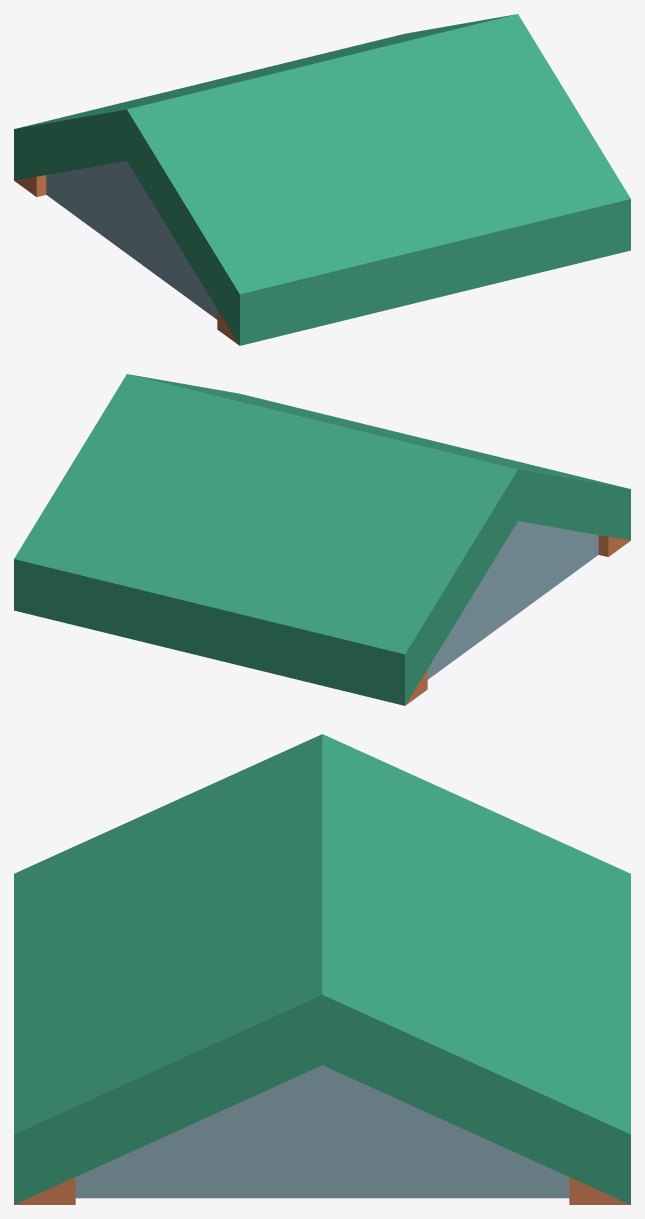
File: roofGableTop.fbx
The picture shows the model from 3 angles, top to bottom: view 1: azimuth 30°, elevation 25°; view 2: azimuth 150°, elevation 25°; view 3: azimuth 270°, elevation 25°; orthographic projection. The views are drawn at different scales.
Visible parts, largest first — view 1: roofGableTop; view 2: roofGableTop; view 3: roofGableTop.
Boxes of the visible parts, x1,y1,x2,y2 form: roofGableTop: (14, 14, 630, 345); roofGableTop: (14, 374, 630, 705); roofGableTop: (14, 734, 630, 1204).
Size of the model in its own units: 10 by 3.76 by 10.
